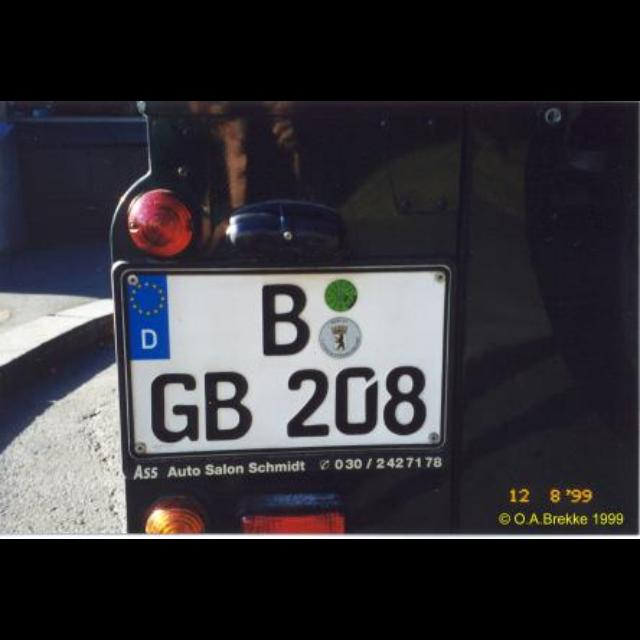d_license_plate: (121, 270, 446, 454)
